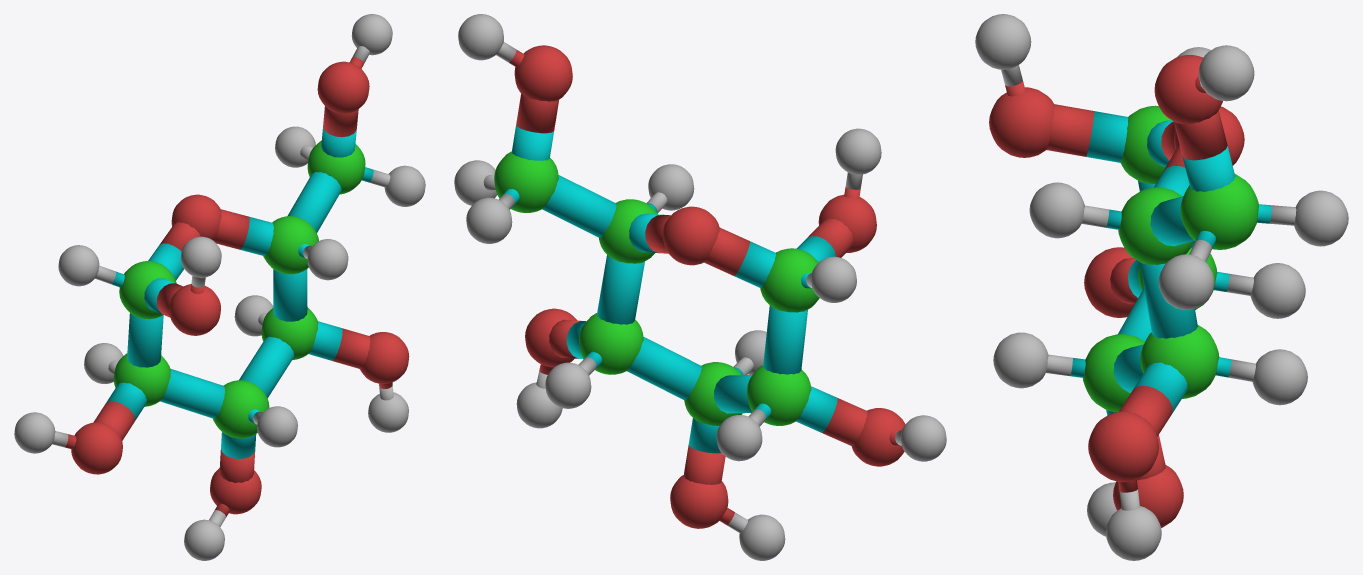
The model's file is myGlucose1.obj.
The picture shows the model from 3 angles, left to right: view 1: azimuth 30°, elevation 25°; view 2: azimuth 150°, elevation 25°; view 3: azimuth 270°, elevation 25°; orthographic projection. The views are drawn at different scales.
Visible parts, largest first — view 1: ShapeSphere.011_ShapeSphere.012, ShapeSphere.002_ShapeSphere.003, ShapeSphere.004_ShapeSphere.005, ShapeSphere.007_ShapeSphere.008, ShapeSphere.006_ShapeSphere.007, ShapeCylinder.031, ShapeSphere.009_ShapeSphere.010, ShapeCylinder.036, ShapeCylinder.046, ShapeSphere_ShapeSphere.001, ShapeSphere.005_ShapeSphere.006, ShapeCylinder.024 (+29 smaller); view 2: ShapeSphere.005_ShapeSphere.006, ShapeSphere.001_ShapeSphere.002, ShapeSphere.003_ShapeSphere.004, ShapeSphere_ShapeSphere.001, ShapeSphere.011_ShapeSphere.012, ShapeSphere.010_ShapeSphere.011, ShapeCylinder.036, ShapeCylinder.046, ShapeCylinder.024, ShapeCylinder.041, ShapeSphere.008_ShapeSphere.009, ShapeSphere.007_ShapeSphere.008 (+30 smaller); view 3: ShapeSphere.005_ShapeSphere.006, ShapeSphere.009_ShapeSphere.010, ShapeSphere.006_ShapeSphere.007, ShapeSphere.003_ShapeSphere.004, ShapeSphere.011_ShapeSphere.012, ShapeSphere.004_ShapeSphere.005, ShapeSphere.002_ShapeSphere.003, ShapeSphere.019_ShapeSphere.020, ShapeSphere.023_ShapeSphere, ShapeSphere.017_ShapeSphere.018, ShapeSphere.016_ShapeSphere.017, ShapeSphere.014_ShapeSphere.015 (+27 smaller).
Boxes of the visible parts, bbox=[...] form: ShapeSphere.011_ShapeSphere.012: bbox=[317, 61, 369, 113]; ShapeSphere.002_ShapeSphere.003: bbox=[213, 380, 269, 438]; ShapeSphere.004_ShapeSphere.005: bbox=[263, 216, 318, 274]; ShapeSphere.007_ShapeSphere.008: bbox=[71, 422, 122, 474]; ShapeSphere.006_ShapeSphere.007: bbox=[169, 284, 220, 335]; ShapeCylinder.031: bbox=[160, 368, 224, 418]; ShapeSphere.009_ShapeSphere.010: bbox=[360, 332, 409, 383]; ShapeCylinder.036: bbox=[239, 336, 294, 398]; ShapeCylinder.046: bbox=[287, 172, 341, 232]; ShapeSphere_ShapeSphere.001: bbox=[119, 261, 176, 319]; ShapeSphere.005_ShapeSphere.006: bbox=[307, 141, 365, 194]; ShapeCylinder.024: bbox=[127, 313, 163, 367]; ShapeSphere.005_ShapeSphere.006: bbox=[494, 151, 558, 212]; ShapeSphere.001_ShapeSphere.002: bbox=[747, 365, 811, 425]; ShapeSphere.003_ShapeSphere.004: bbox=[579, 313, 643, 374]; ShapeSphere_ShapeSphere.001: bbox=[760, 248, 819, 312]; ShapeSphere.011_ShapeSphere.012: bbox=[514, 45, 572, 101]; ShapeSphere.010_ShapeSphere.011: bbox=[662, 206, 719, 265]; ShapeCylinder.036: bbox=[627, 337, 701, 399]; ShapeCylinder.046: bbox=[542, 175, 616, 237]; ShapeCylinder.024: bbox=[763, 305, 807, 374]; ShapeCylinder.041: bbox=[597, 255, 644, 324]; ShapeSphere.008_ShapeSphere.009: bbox=[670, 475, 728, 528]; ShapeSphere.007_ShapeSphere.008: bbox=[851, 408, 905, 466]; ShapeSphere.005_ShapeSphere.006: bbox=[1180, 174, 1258, 249]; ShapeSphere.009_ShapeSphere.010: bbox=[1088, 411, 1158, 482]; ShapeSphere.006_ShapeSphere.007: bbox=[989, 87, 1054, 157]; ShapeSphere.003_ShapeSphere.004: bbox=[1140, 325, 1219, 398]; ShapeSphere.011_ShapeSphere.012: bbox=[1154, 55, 1222, 124]; ShapeSphere.004_ShapeSphere.005: bbox=[1118, 187, 1193, 264]; ShapeSphere.002_ShapeSphere.003: bbox=[1083, 334, 1144, 412]; ShapeSphere.019_ShapeSphere.020: bbox=[975, 14, 1031, 69]; ShapeSphere.023_ShapeSphere: bbox=[1198, 45, 1254, 101]; ShapeSphere.017_ShapeSphere.018: bbox=[1158, 254, 1214, 310]; ShapeSphere.016_ShapeSphere.017: bbox=[1029, 182, 1084, 238]; ShapeSphere.014_ShapeSphere.015: bbox=[993, 332, 1048, 388].
Size of the model in its own units: 7.03 by 7.4 by 4.
